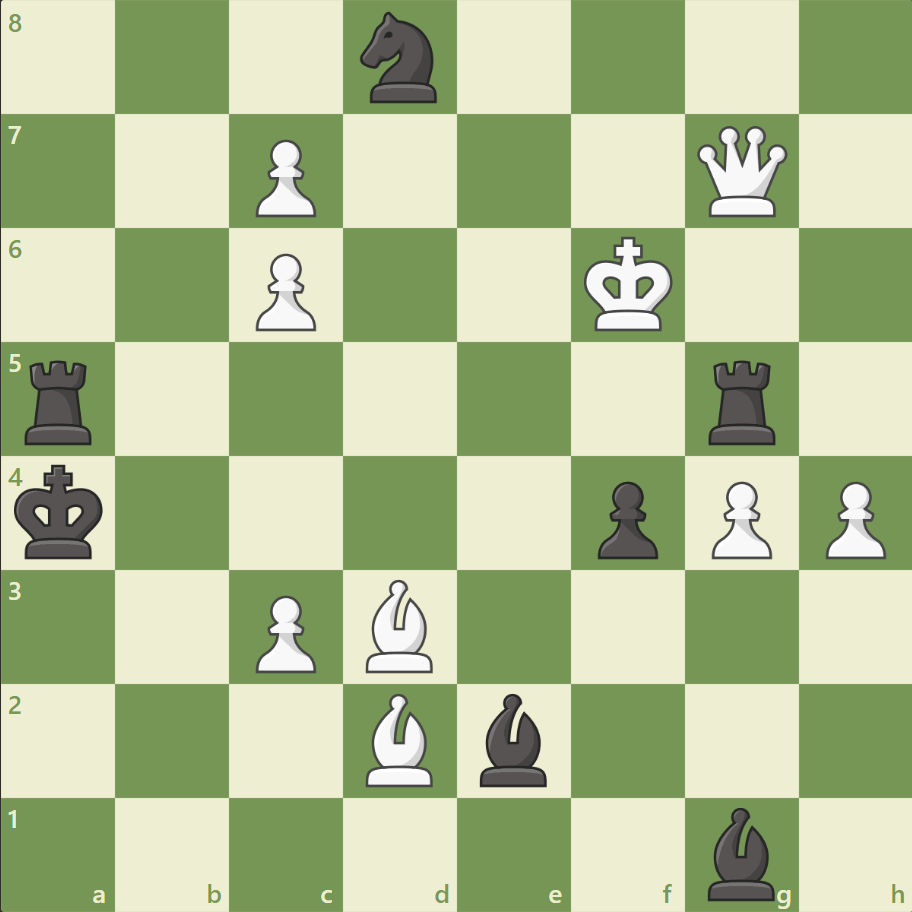B: (358, 687, 442, 790), (358, 574, 442, 676)
K: (579, 231, 679, 339)
P: (247, 132, 322, 223), (247, 246, 322, 337), (701, 473, 776, 564), (247, 586, 322, 677), (815, 473, 889, 564)
Q: (691, 122, 790, 222)
b: (471, 687, 555, 790), (698, 801, 782, 904)
k: (11, 458, 111, 566)
n: (351, 7, 449, 110)
p: (588, 473, 662, 564)
r: (19, 352, 102, 449), (700, 352, 783, 449)
